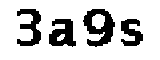3: (12, 6, 45, 47)
9: (82, 3, 116, 52)
a: (49, 18, 79, 49)
s: (120, 13, 143, 51)
